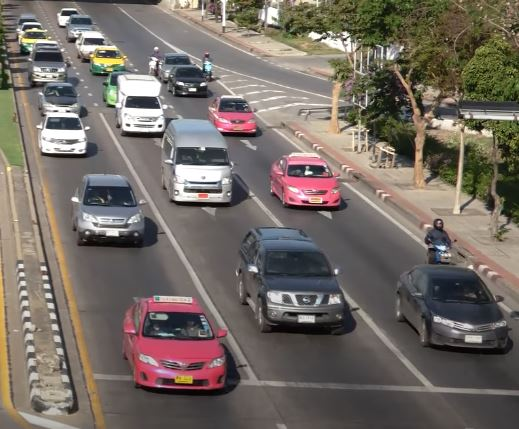Car: (234, 228, 350, 336), (119, 294, 231, 396), (395, 263, 511, 355), (158, 118, 235, 208), (70, 172, 149, 247), (268, 151, 343, 210), (117, 73, 167, 134), (36, 112, 91, 156), (208, 95, 258, 136), (38, 81, 81, 117), (28, 48, 68, 84), (167, 65, 208, 98), (89, 46, 126, 75), (158, 52, 194, 80), (75, 30, 106, 59), (65, 14, 96, 41), (19, 27, 48, 54), (102, 71, 119, 107)
Motorcycle: (423, 217, 457, 266), (147, 46, 162, 77), (202, 51, 213, 82)
